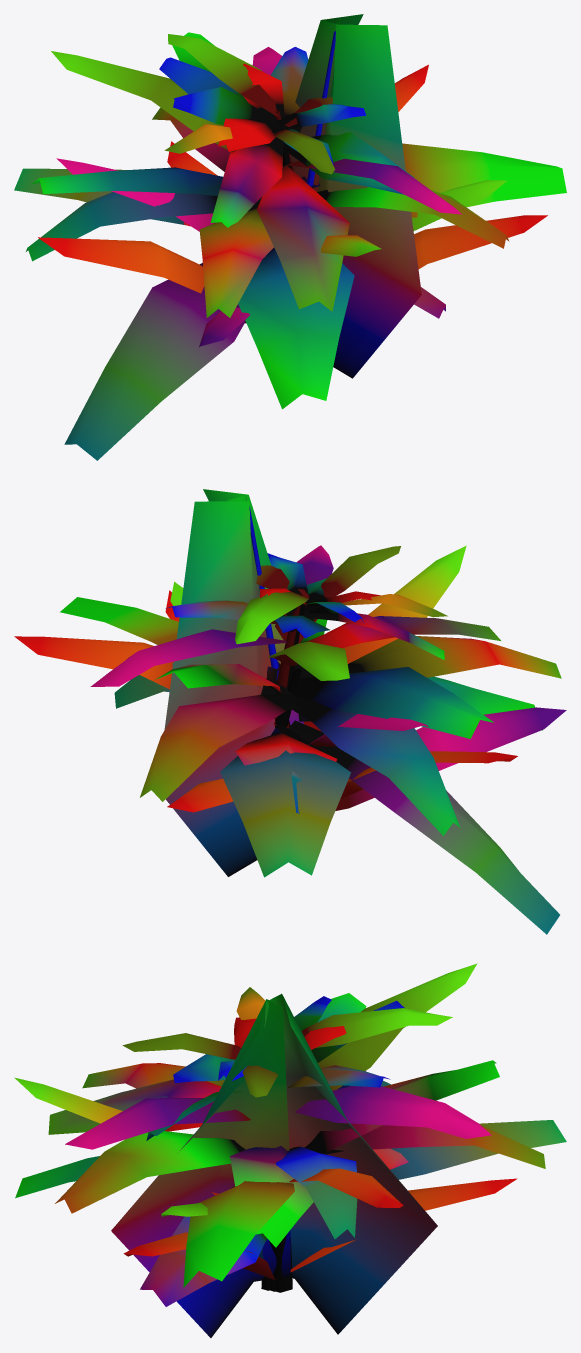
File: foolige_Mesh.fbx
3 renders of one model, top to bottom at view 1: azimuth 30°, elevation 25°; view 2: azimuth 150°, elevation 25°; view 3: azimuth 270°, elevation 25°, orthographic. The views are drawn at different scales.
Parts seen in each view (by area): view 1: Plant_02, Plant_01, Plant_03, Plant_04; view 2: Plant_02, Plant_03, Plant_01, Plant_04; view 3: Plant_04, Plant_02, Plant_03, Plant_01.
Boxes of the visible parts, x1,y1,x2,y2 form: Plant_02: (14,107,566,460); Plant_01: (32,32,445,318); Plant_03: (38,34,547,347); Plant_04: (290,14,421,378); Plant_02: (60,597,561,934); Plant_03: (14,545,566,812); Plant_01: (155,553,500,813); Plant_04: (164,489,303,876); Plant_04: (111,993,437,1337); Plant_02: (15,1063,566,1292); Plant_03: (14,963,517,1279); Plant_01: (48,993,499,1306).
Bounding box in the file's own units: 60.93 × 43.38 × 59.07.
